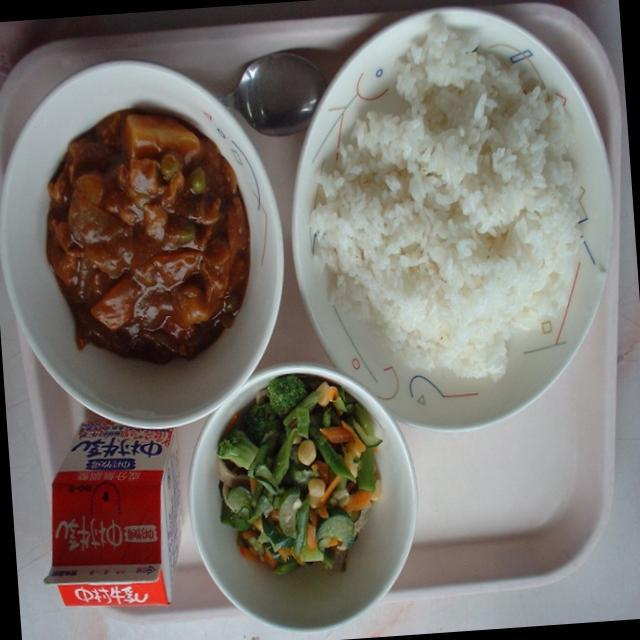Rice: (318, 38, 582, 379)
